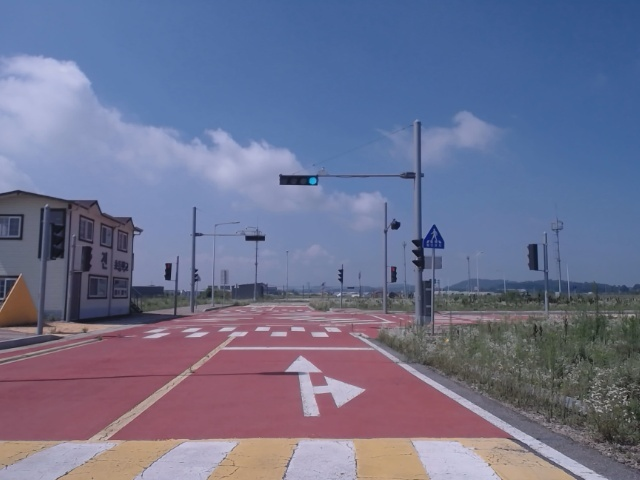straight_green_4: (279, 175, 318, 185)
